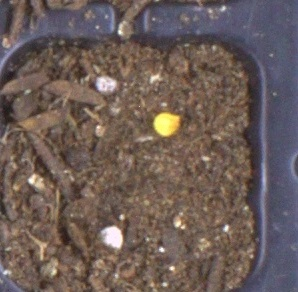chilli seed: (152, 112, 181, 138)
